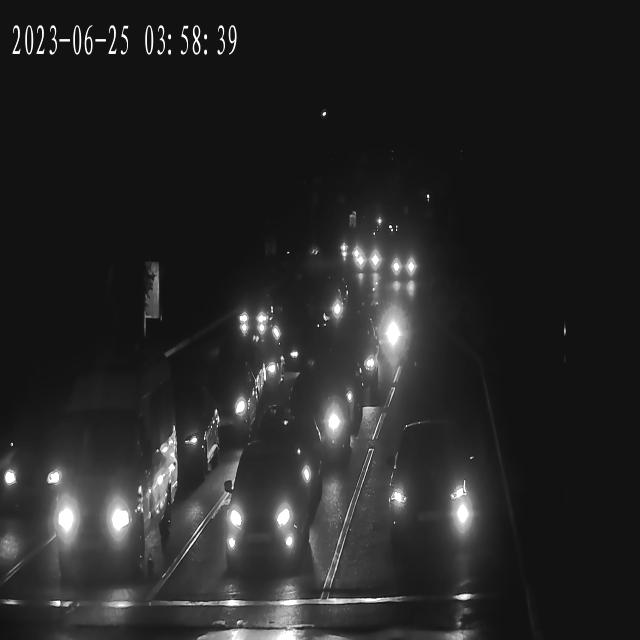Car: (58, 365, 174, 578), (218, 444, 322, 573), (376, 431, 482, 545), (0, 409, 73, 534), (277, 374, 362, 466), (167, 392, 230, 494), (182, 373, 256, 443), (332, 324, 383, 405), (358, 298, 409, 364), (305, 262, 348, 331), (234, 297, 277, 333), (230, 302, 272, 338), (391, 253, 422, 286), (352, 248, 384, 276), (337, 240, 360, 257)
